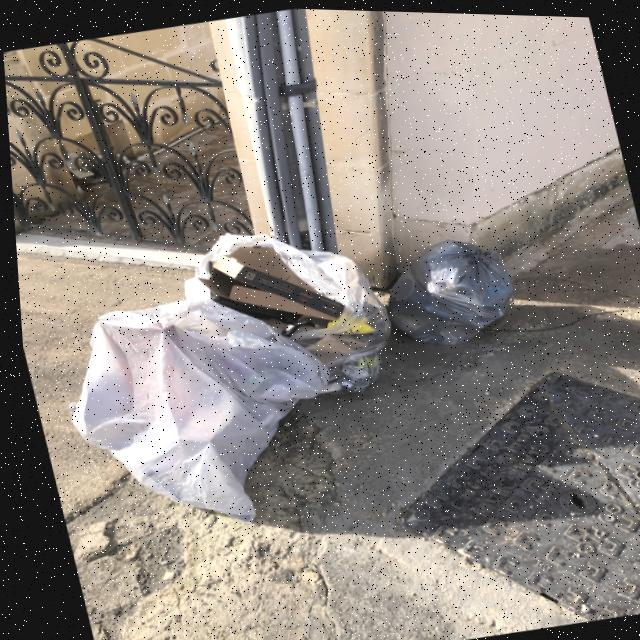Mixed Waste -Black Bag-: (371, 230, 522, 363)
Organic Waste -White Bag-: (41, 274, 341, 537), (176, 210, 391, 420)
